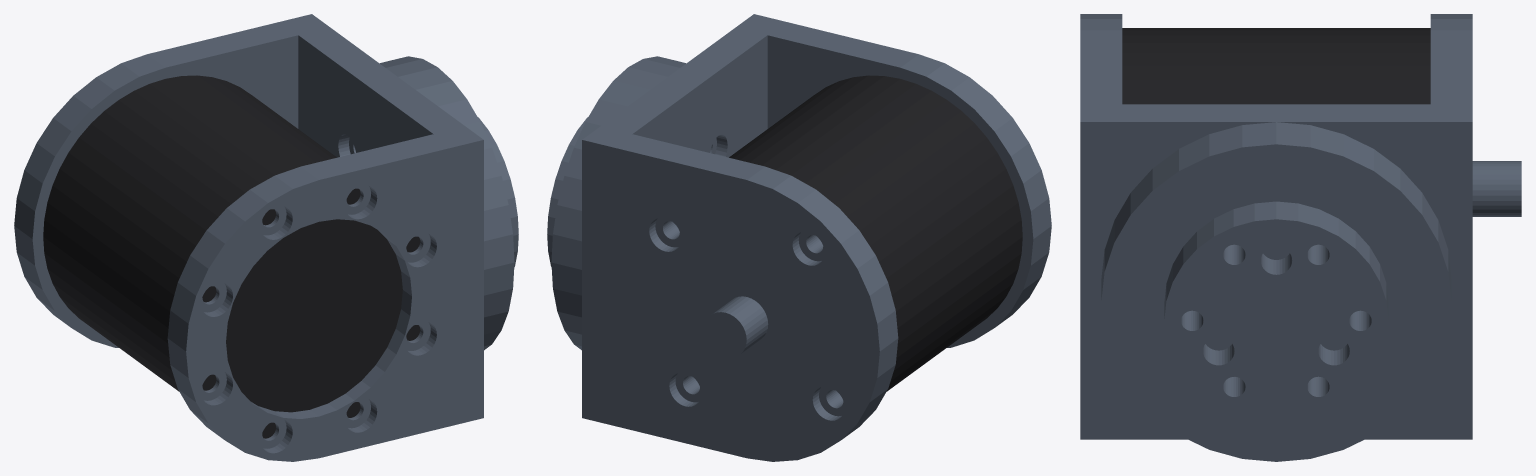
File: neck_nod.dae
3 renders of one model, left to right at view 1: azimuth 30°, elevation 25°; view 2: azimuth 150°, elevation 25°; view 3: azimuth 270°, elevation 25°, orthographic. The views are drawn at different scales.
Parts seen in each view (by area): view 1: neck_nod-printed, neck_nod-motor; view 2: neck_nod-printed, neck_nod-motor; view 3: neck_nod-printed, neck_nod-motor.
Part boxes in pixels (left/top/right/bottom): neck_nod-printed: left=14, top=14, right=518, bottom=461; neck_nod-motor: left=43, top=75, right=420, bottom=438; neck_nod-printed: left=547, top=14, right=1051, bottom=461; neck_nod-motor: left=729, top=75, right=1022, bottom=391; neck_nod-printed: left=1080, top=14, right=1521, bottom=461; neck_nod-motor: left=1122, top=28, right=1430, bottom=104.
Size of the model in its own units: 0.0695 by 0.063 by 0.05.
